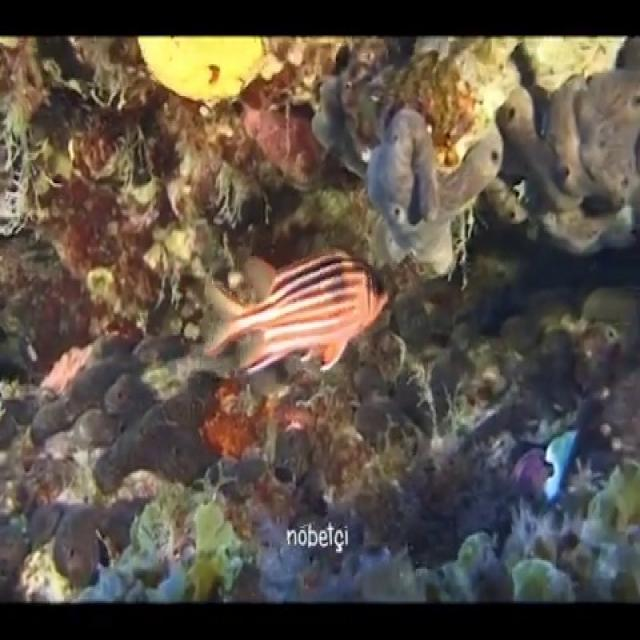Asker Baligi: (201, 245, 392, 379)
